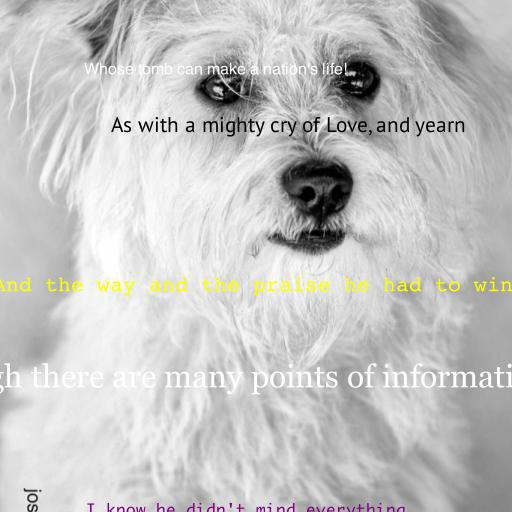Courier: (0, 276, 512, 296)
Georgia: (0, 363, 512, 395)
Monaco: (86, 502, 406, 512)
PT Sans: (110, 116, 466, 137)
SF Pro: (83, 62, 347, 75)
